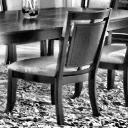chair_success: (0, 2, 114, 128)
